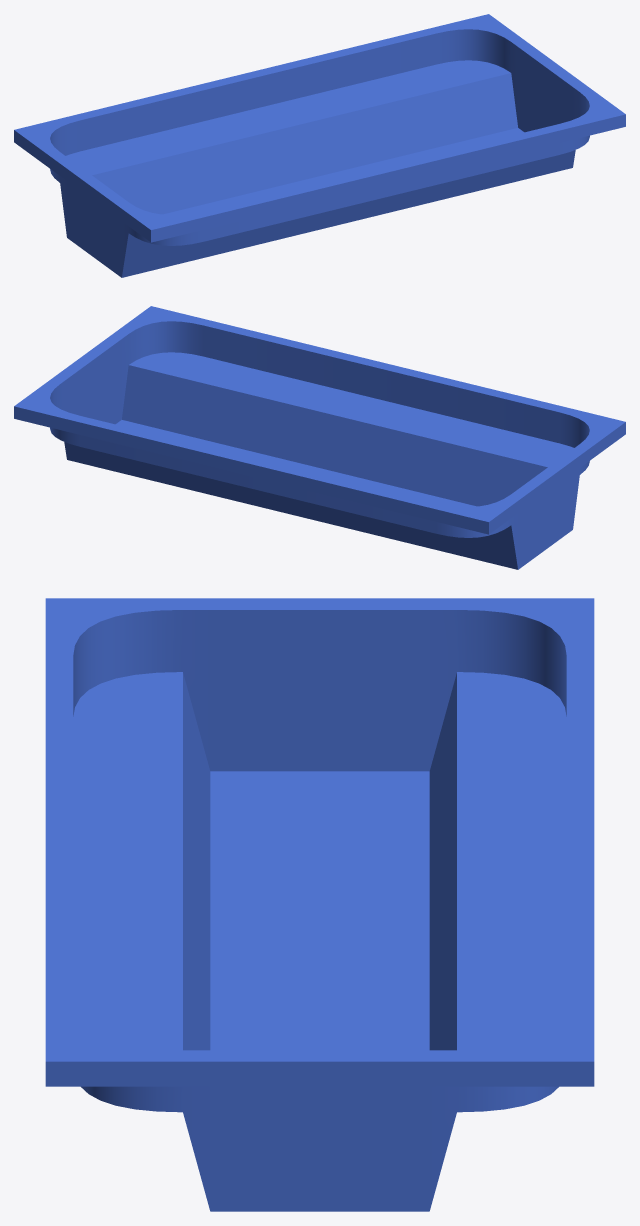
Rendered from Ceiling_4x2m_C.FBX.
The picture shows the model from 3 angles, top to bottom: view 1: azimuth 30°, elevation 25°; view 2: azimuth 150°, elevation 25°; view 3: azimuth 270°, elevation 25°; orthographic projection. The views are drawn at different scales.
Visible parts, largest first — view 1: Ceiling_4x2m_C; view 2: Ceiling_4x2m_C; view 3: Ceiling_4x2m_C.
Boxes of the visible parts, x1,y1,x2,y2 form: Ceiling_4x2m_C: (14, 14, 625, 277); Ceiling_4x2m_C: (14, 306, 625, 569); Ceiling_4x2m_C: (45, 598, 594, 1211).
Size of the model in its own units: 400 by 65 by 200.
